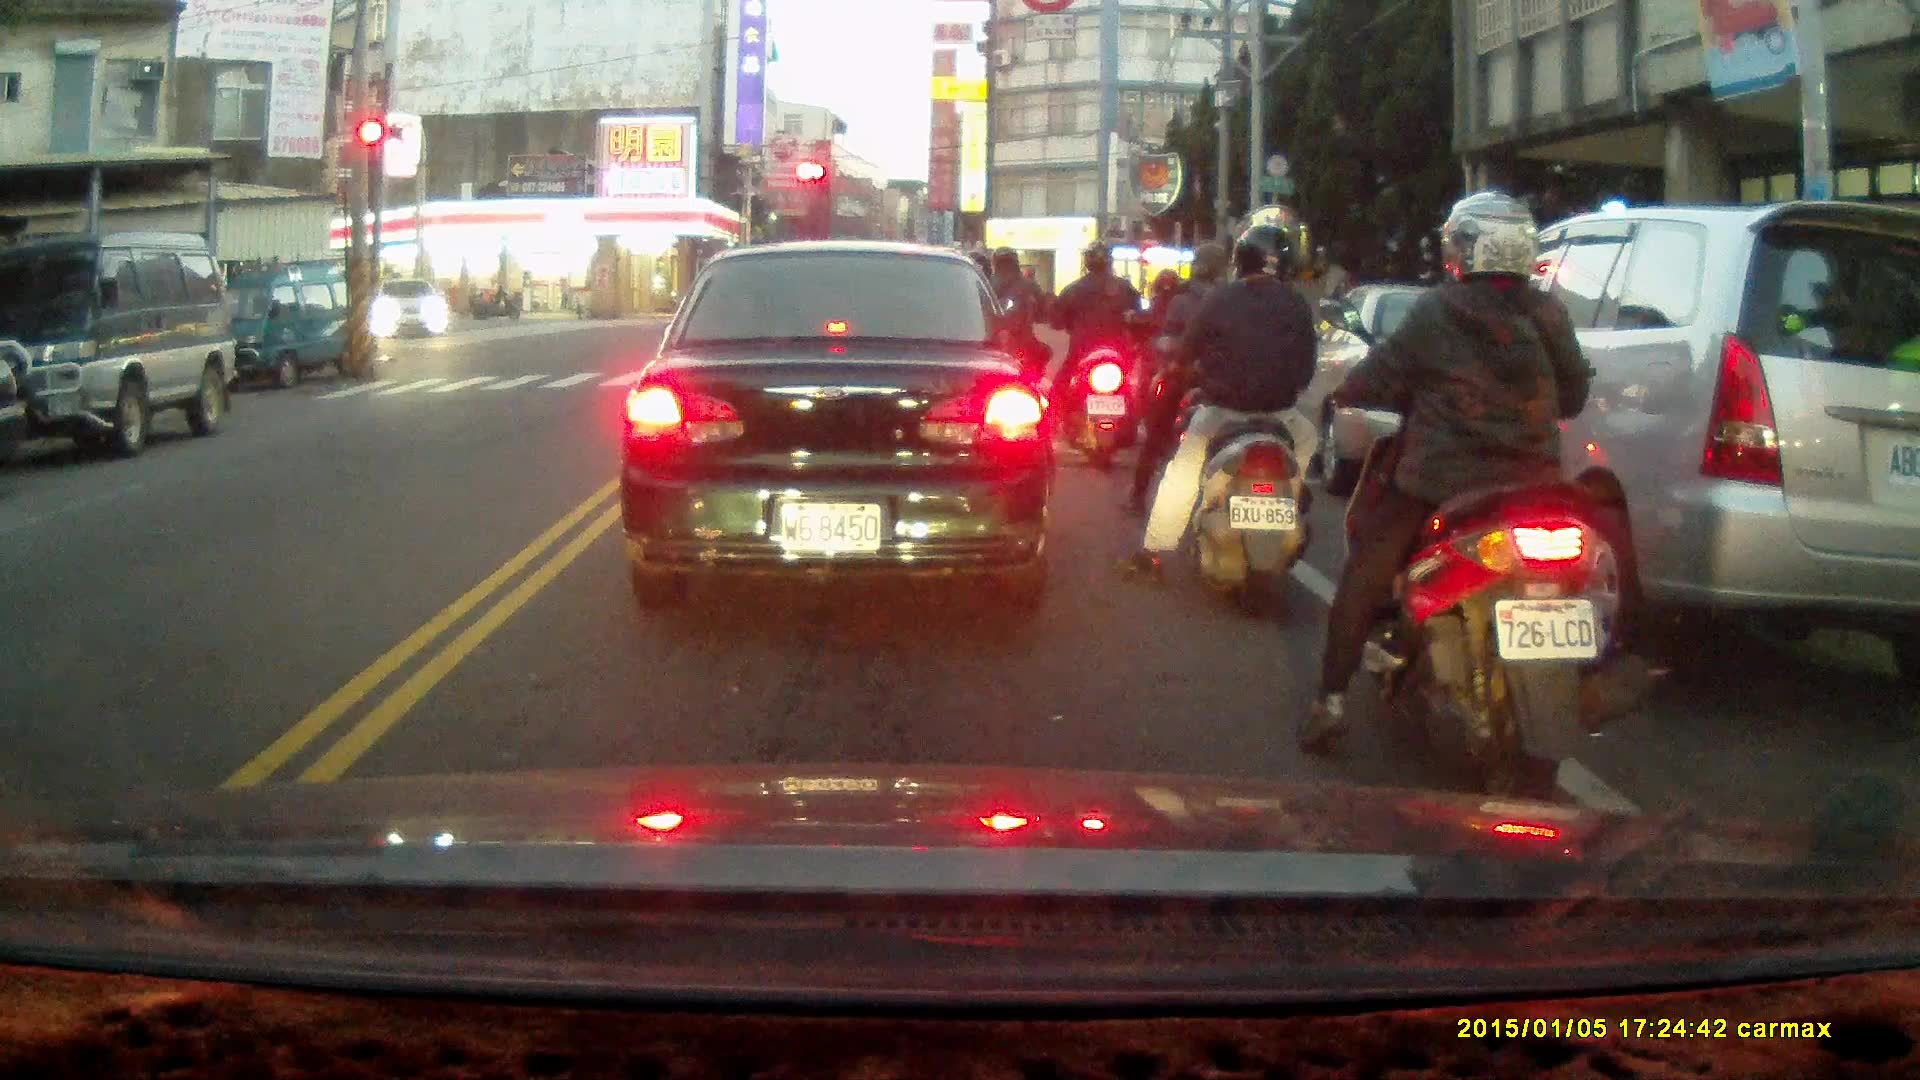rider: (1292, 192, 1646, 824), (1116, 226, 1318, 616), (1124, 240, 1256, 546), (1048, 244, 1142, 469), (968, 244, 1053, 434), (1132, 267, 1203, 449)
vehicle: (1391, 195, 1920, 685), (617, 243, 1061, 606), (1281, 284, 1608, 502), (1, 234, 239, 458), (193, 255, 379, 393), (372, 277, 451, 343)
